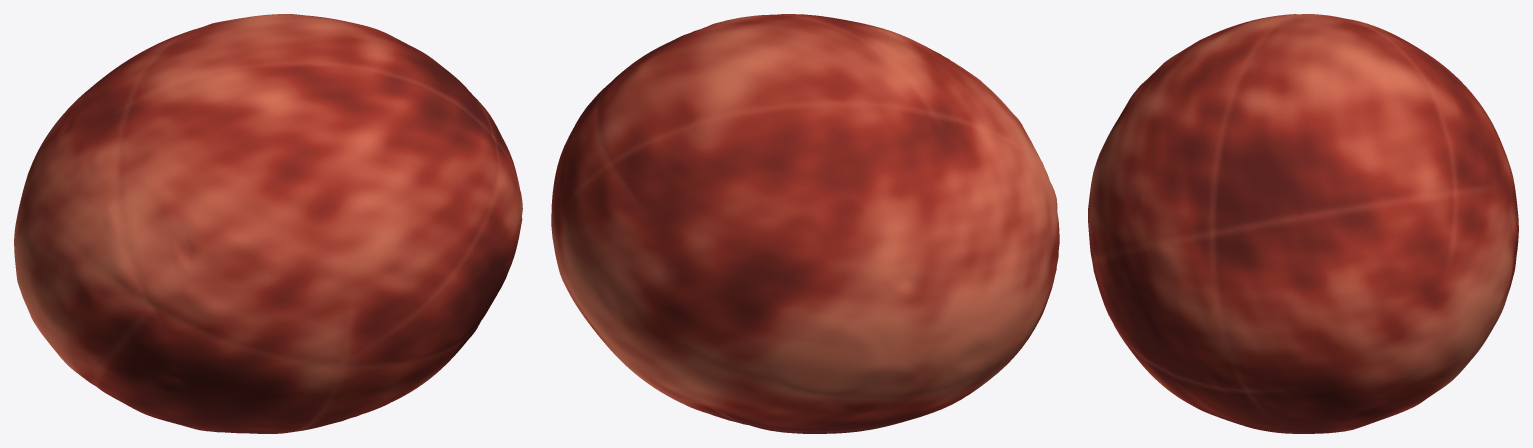
The model's file is iota_004.glb.
The picture shows the model from 3 angles, left to right: view 1: azimuth 30°, elevation 25°; view 2: azimuth 150°, elevation 25°; view 3: azimuth 270°, elevation 25°; orthographic projection. The views are drawn at different scales.
Visible parts, largest first — view 1: iota_004_body; view 2: iota_004_body; view 3: iota_004_body.
Part boxes in pixels (bbox=[...]): iota_004_body: bbox=[14, 14, 522, 433]; iota_004_body: bbox=[551, 14, 1059, 433]; iota_004_body: bbox=[1088, 14, 1518, 433].
Bounding box in the file's own units: 2.25 × 1.76 × 1.9.
1 material, 1 textured.
